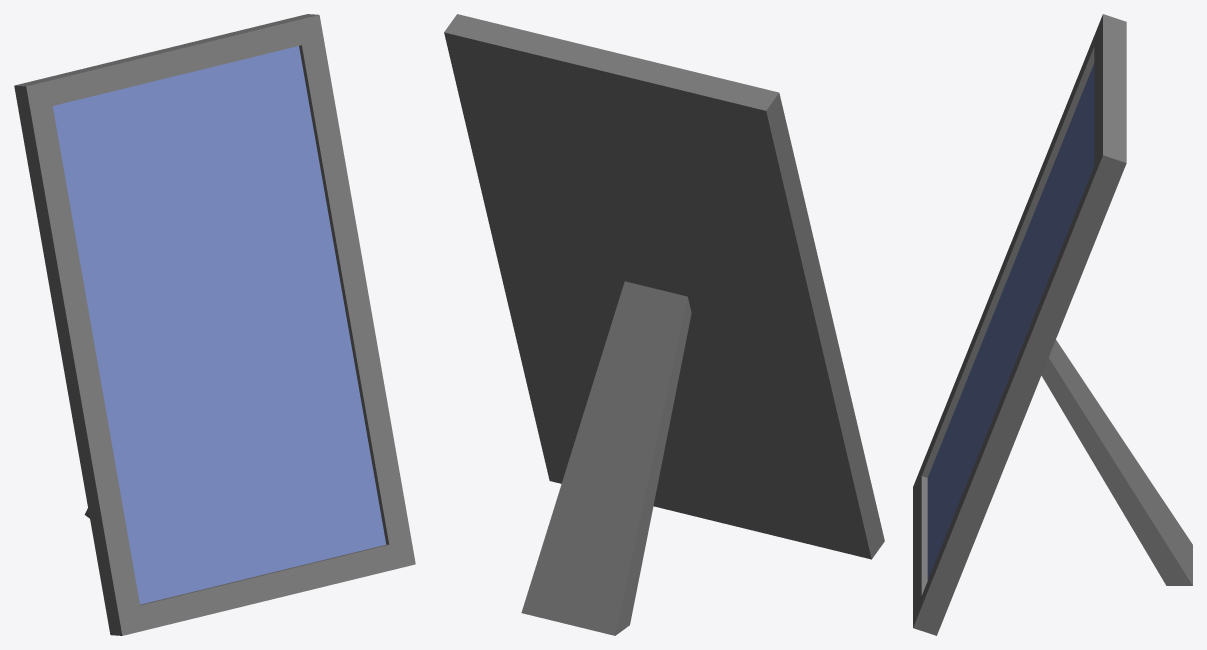
The model's file is D_Cafe_Frame_001.fbx.
The picture shows the model from 3 angles, left to right: view 1: azimuth 30°, elevation 25°; view 2: azimuth 150°, elevation 25°; view 3: azimuth 270°, elevation 25°; orthographic projection. The views are drawn at different scales.
Parts seen in each view (by area): view 1: D_Cafe_Frame_001; view 2: D_Cafe_Frame_001; view 3: D_Cafe_Frame_001.
Boxes of the visible parts, x1,y1,x2,y2 form: D_Cafe_Frame_001: [14, 14, 415, 635]; D_Cafe_Frame_001: [444, 14, 884, 635]; D_Cafe_Frame_001: [913, 14, 1192, 635].
Bounding box in the file's own units: 0.203 × 0.322 × 0.1699.
